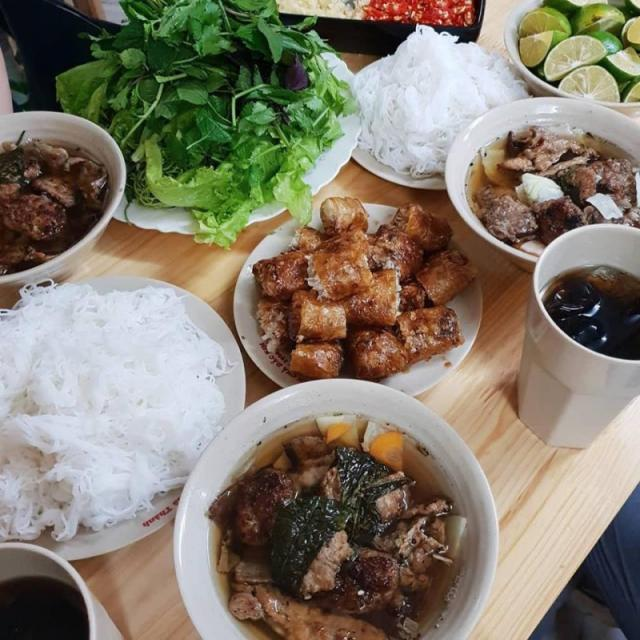bun cha: (0, 0, 634, 634)
